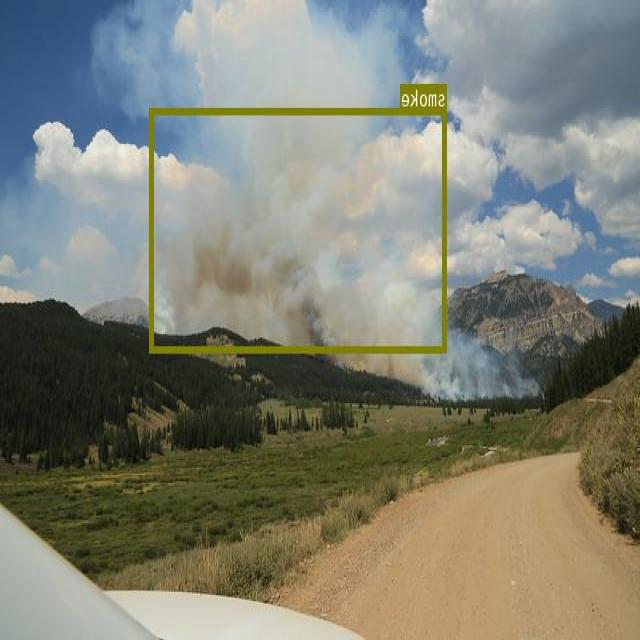smoke: (151, 107, 447, 351)
